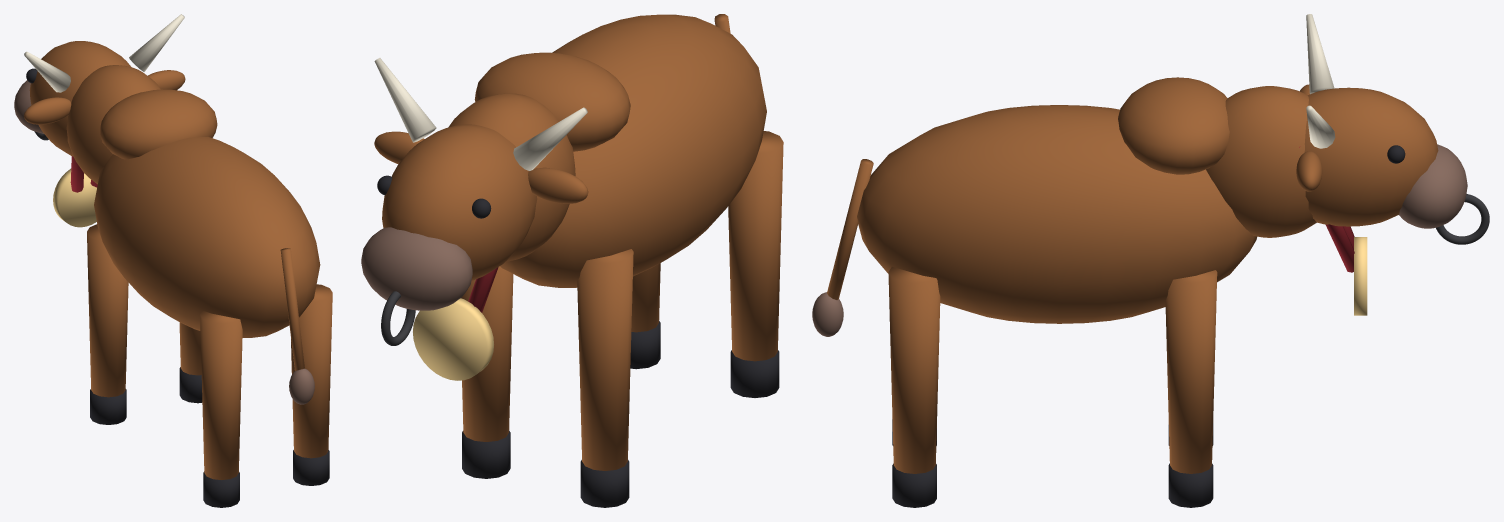
File: hanwoo.glb
3 renders of one model, left to right at view 1: azimuth 30°, elevation 25°; view 2: azimuth 150°, elevation 25°; view 3: azimuth 270°, elevation 25°, orthographic. The views are drawn at different scales.
Visible parts, largest first — view 1: Hanwoo, Medal, Ribbon; view 2: Hanwoo, Medal, NoseRing, Ribbon; view 3: Hanwoo, Medal, NoseRing, Ribbon.
Part boxes in pixels (x1=…): Hanwoo: x1=14, y1=14, x2=332, y2=507; Medal: x1=53, y1=168, x2=96, y2=227; Ribbon: x1=70, y1=99, x2=97, y2=192; Hanwoo: x1=361, y1=14, x2=783, y2=507; Medal: x1=413, y1=298, x2=493, y2=380; NoseRing: x1=381, y1=291, x2=415, y2=345; Ribbon: x1=468, y1=267, x2=498, y2=312; Hanwoo: x1=812, y1=14, x2=1467, y2=507; Medal: x1=1354, y1=237, x2=1367, y2=315; NoseRing: x1=1436, y1=194, x2=1489, y2=244; Ribbon: x1=1299, y1=146, x2=1354, y2=272.
Size of the model in its own units: 0.86 by 1.73 by 2.58.
